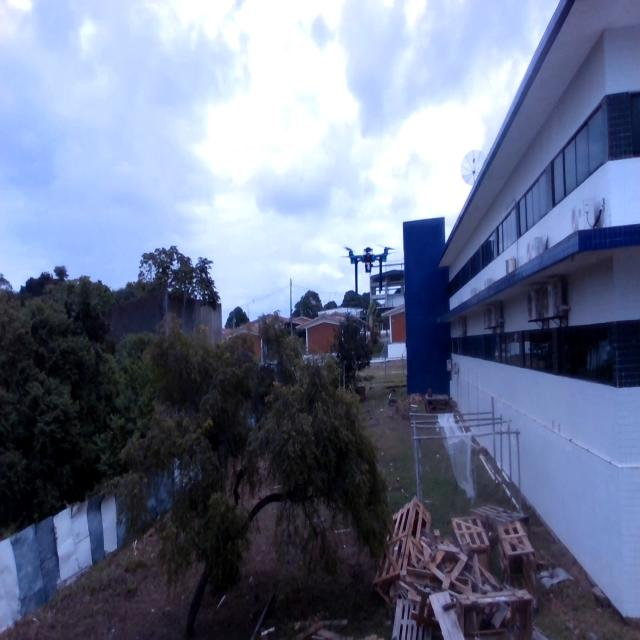-uav-: (337, 235, 396, 298)
